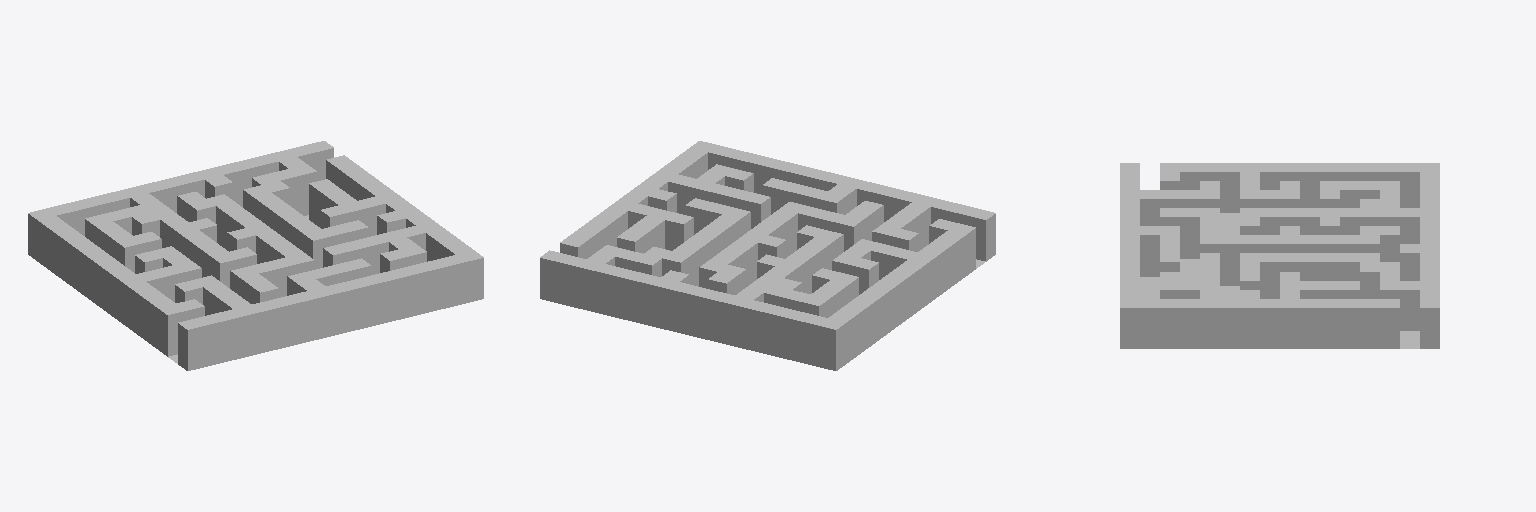
File: labiryhth.obj
3 views of the same model, side by side, from view 1: azimuth 30°, elevation 25°; view 2: azimuth 150°, elevation 25°; view 3: azimuth 270°, elevation 25° (orthographic).
Visible parts, largest first — view 1: Plane; view 2: Plane; view 3: Plane.
Part boxes in pixels (bbox=[...]): Plane: bbox=[28, 141, 483, 370]; Plane: bbox=[540, 141, 995, 370]; Plane: bbox=[1120, 163, 1439, 348].
Size of the model in its own units: 15 by 2 by 14.